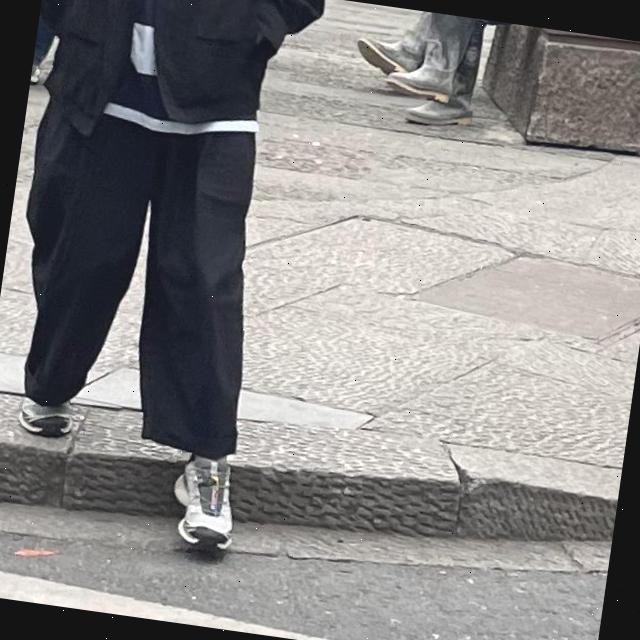curb: (231, 421, 621, 541), (0, 394, 182, 515)
